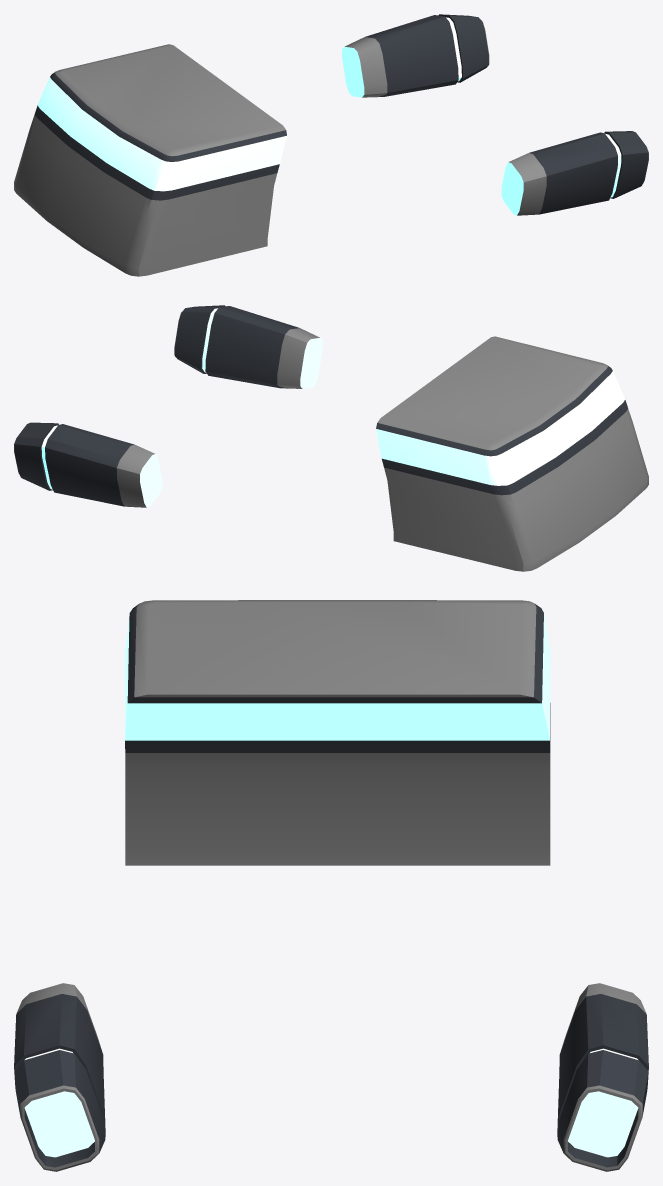
The model's file is SpaceshipExtras.fbx.
3 views of the same model, one above another, from view 1: azimuth 30°, elevation 25°; view 2: azimuth 150°, elevation 25°; view 3: azimuth 270°, elevation 25° (orthographic). The views are drawn at different scales.
Visible parts, largest first — view 1: Cube, Plane.002; view 2: Cube, Plane.002; view 3: Cube, Plane.002.
Part boxes in pixels (box(x1,y1,x2,y2)): Cube: box(14, 44, 286, 276); Plane.002: box(342, 14, 648, 215); Cube: box(376, 336, 648, 571); Plane.002: box(14, 305, 322, 507); Cube: box(125, 600, 550, 865); Plane.002: box(14, 983, 648, 1171).
Bounding box in the file's own units: 25.88 × 6.44 × 17.02.
Materials: 3 (2 with a texture image).
